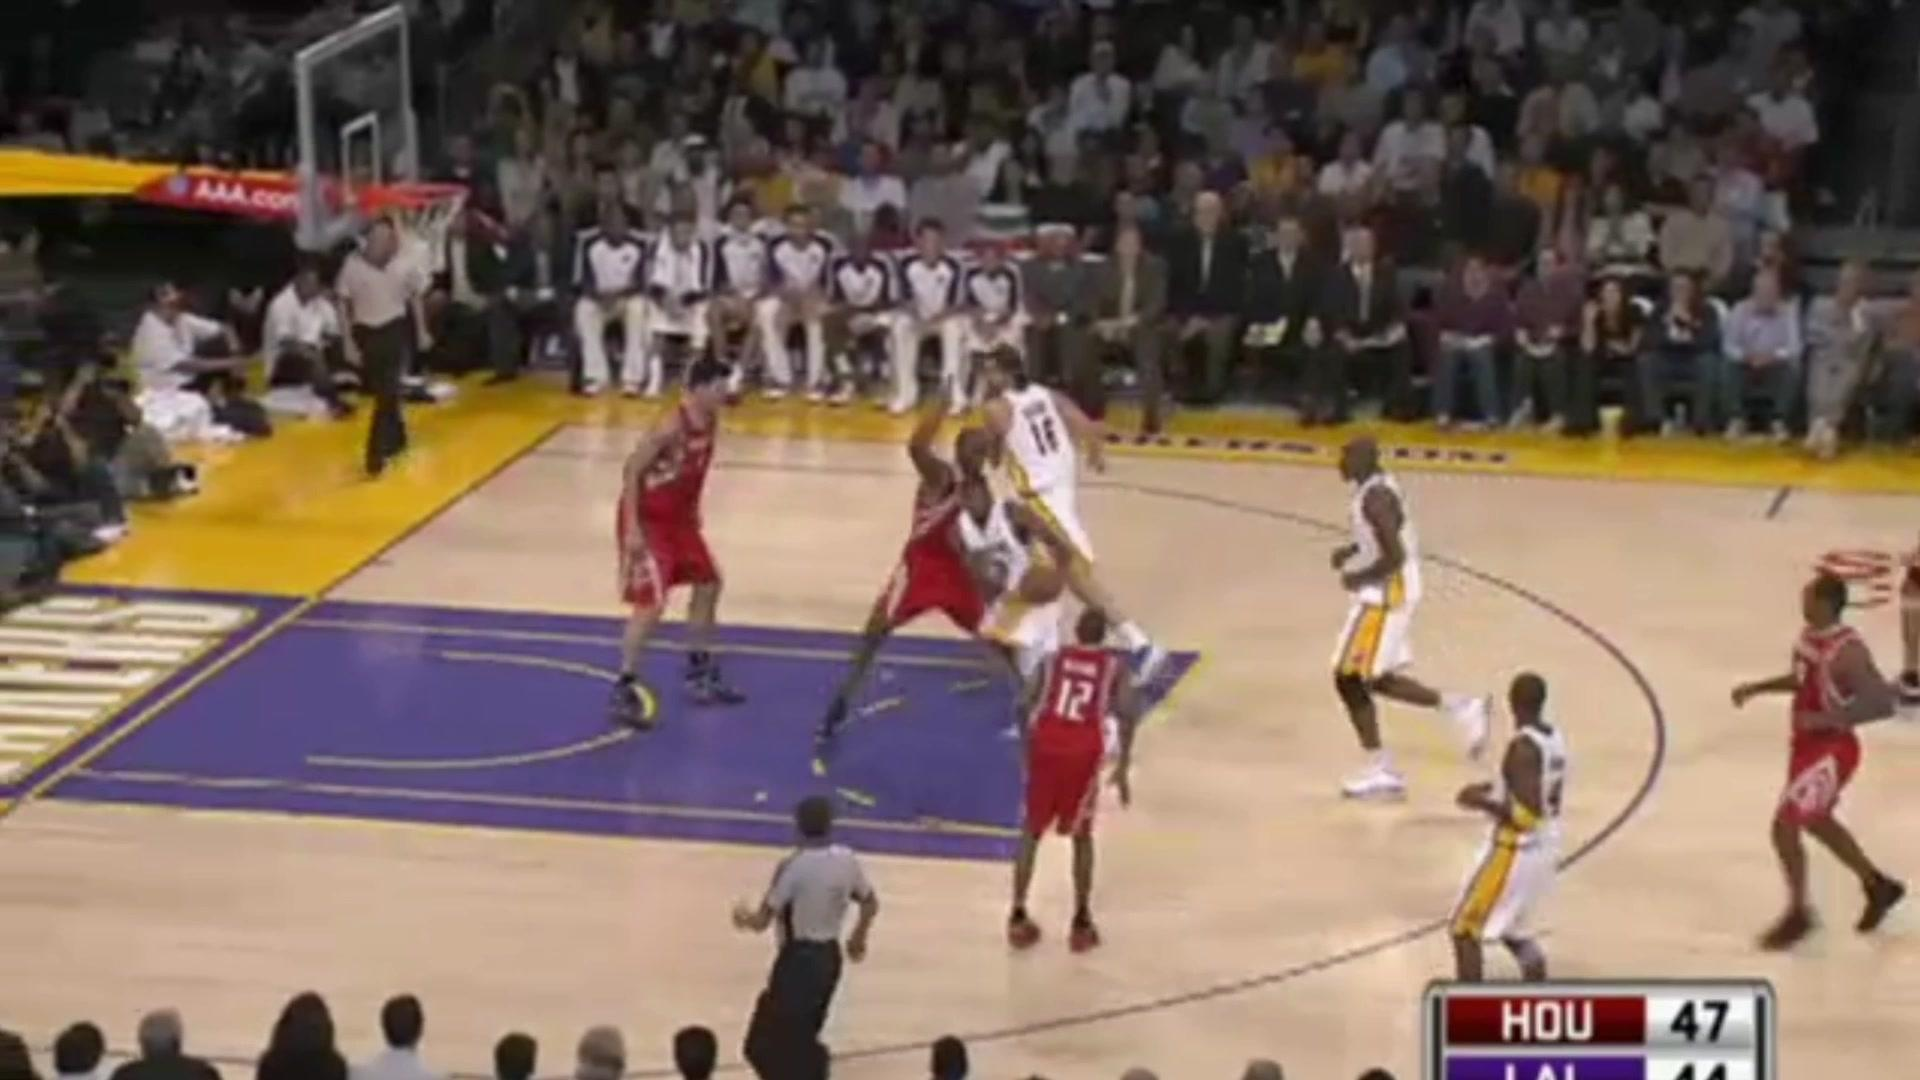no_foul: (905, 409, 1062, 698)
